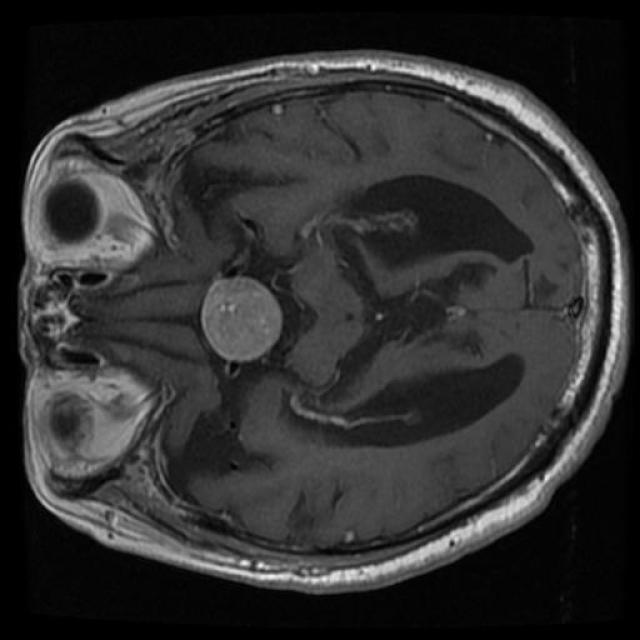Pituitary: (201, 276, 282, 363)
